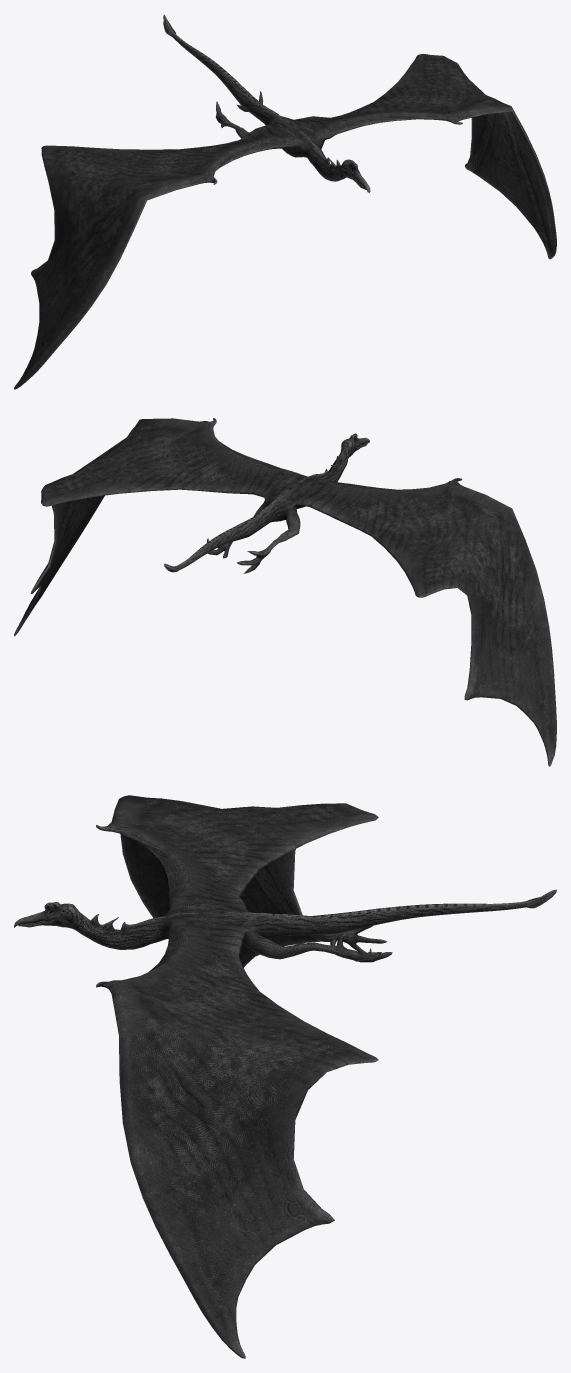
File: Fellbeast_Animate_Flying_37.obj
3 renders of one model, top to bottom at view 1: azimuth 30°, elevation 25°; view 2: azimuth 150°, elevation 25°; view 3: azimuth 270°, elevation 25°, orthographic. The views are drawn at different scales.
Parts seen in each view (by area): view 1: Fellbeast; view 2: Fellbeast; view 3: Fellbeast.
Part boxes in pixels (<box>): Fellbeast: <box>14,14,556,389</box>; Fellbeast: <box>14,418,556,766</box>; Fellbeast: <box>14,795,556,1358</box>.
Size of the model in its own units: 6.6 by 2.63 by 4.37.
